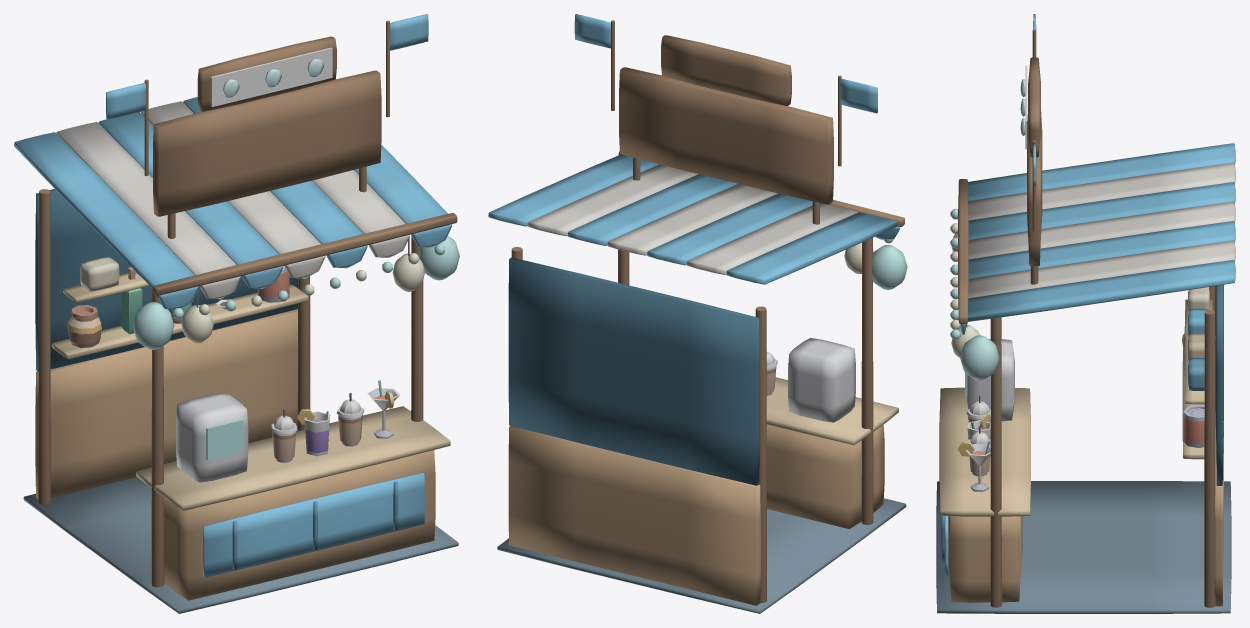
File: stall_tea.glb
3 renders of one model, left to right at view 1: azimuth 30°, elevation 25°; view 2: azimuth 150°, elevation 25°; view 3: azimuth 270°, elevation 25°, orthographic. The views are drawn at different scales.
Parts seen in each view (by area): view 1: body, level3, level2; view 2: body, level3, level2; view 3: body, level2, level3.
Part boxes in pixels (left/top/right/bottom): body: left=14, top=70, right=458, bottom=613; level3: left=106, top=14, right=428, bottom=175; level2: left=63, top=236, right=459, bottom=349; body: left=488, top=67, right=906, bottom=613; level3: left=574, top=14, right=877, bottom=166; level2: left=871, top=239, right=907, bottom=289; body: left=936, top=112, right=1235, bottom=613; level2: left=950, top=208, right=1212, bottom=404; level3: left=1020, top=14, right=1040, bottom=231.
Size of the model in its own units: 3.2 by 4.68 by 2.73.
